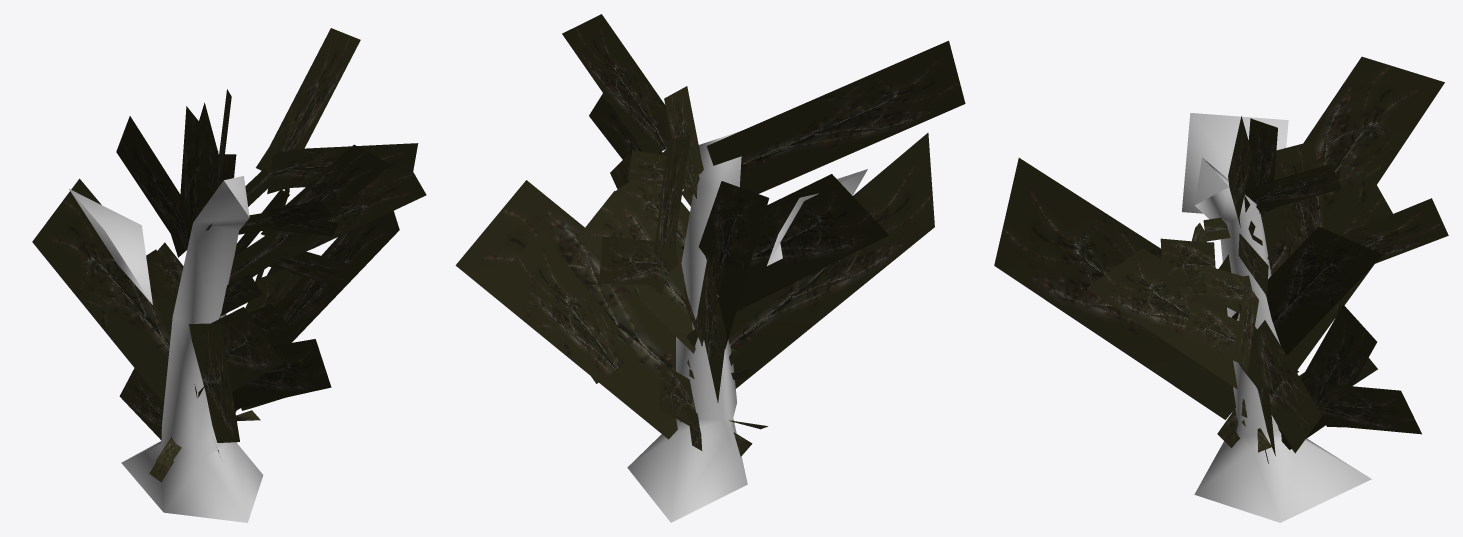
File: Tree4Lod1.FBX
The picture shows the model from 3 angles, left to right: view 1: azimuth 30°, elevation 25°; view 2: azimuth 150°, elevation 25°; view 3: azimuth 270°, elevation 25°; orthographic projection. The views are drawn at different scales.
Visible parts, largest first — view 1: Tree4Lod1; view 2: Tree4Lod1; view 3: Tree4Lod1.
Part boxes in pixels (x1=…): Tree4Lod1: x1=32, y1=28, x2=426, y2=522; Tree4Lod1: x1=455, y1=14, x2=965, y2=522; Tree4Lod1: x1=994, y1=56, x2=1448, y2=522.
Bounding box in the file's own units: 232 × 238 × 228.
